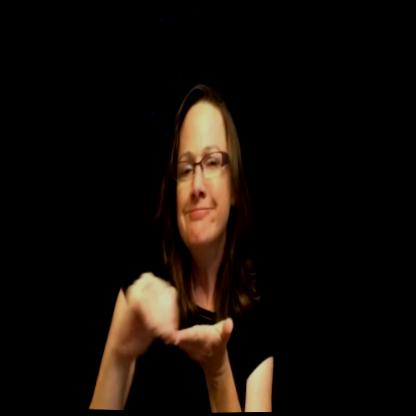ExcuseMe: (98, 244, 246, 409)
